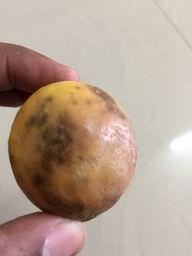lemon: (7, 77, 139, 224)
